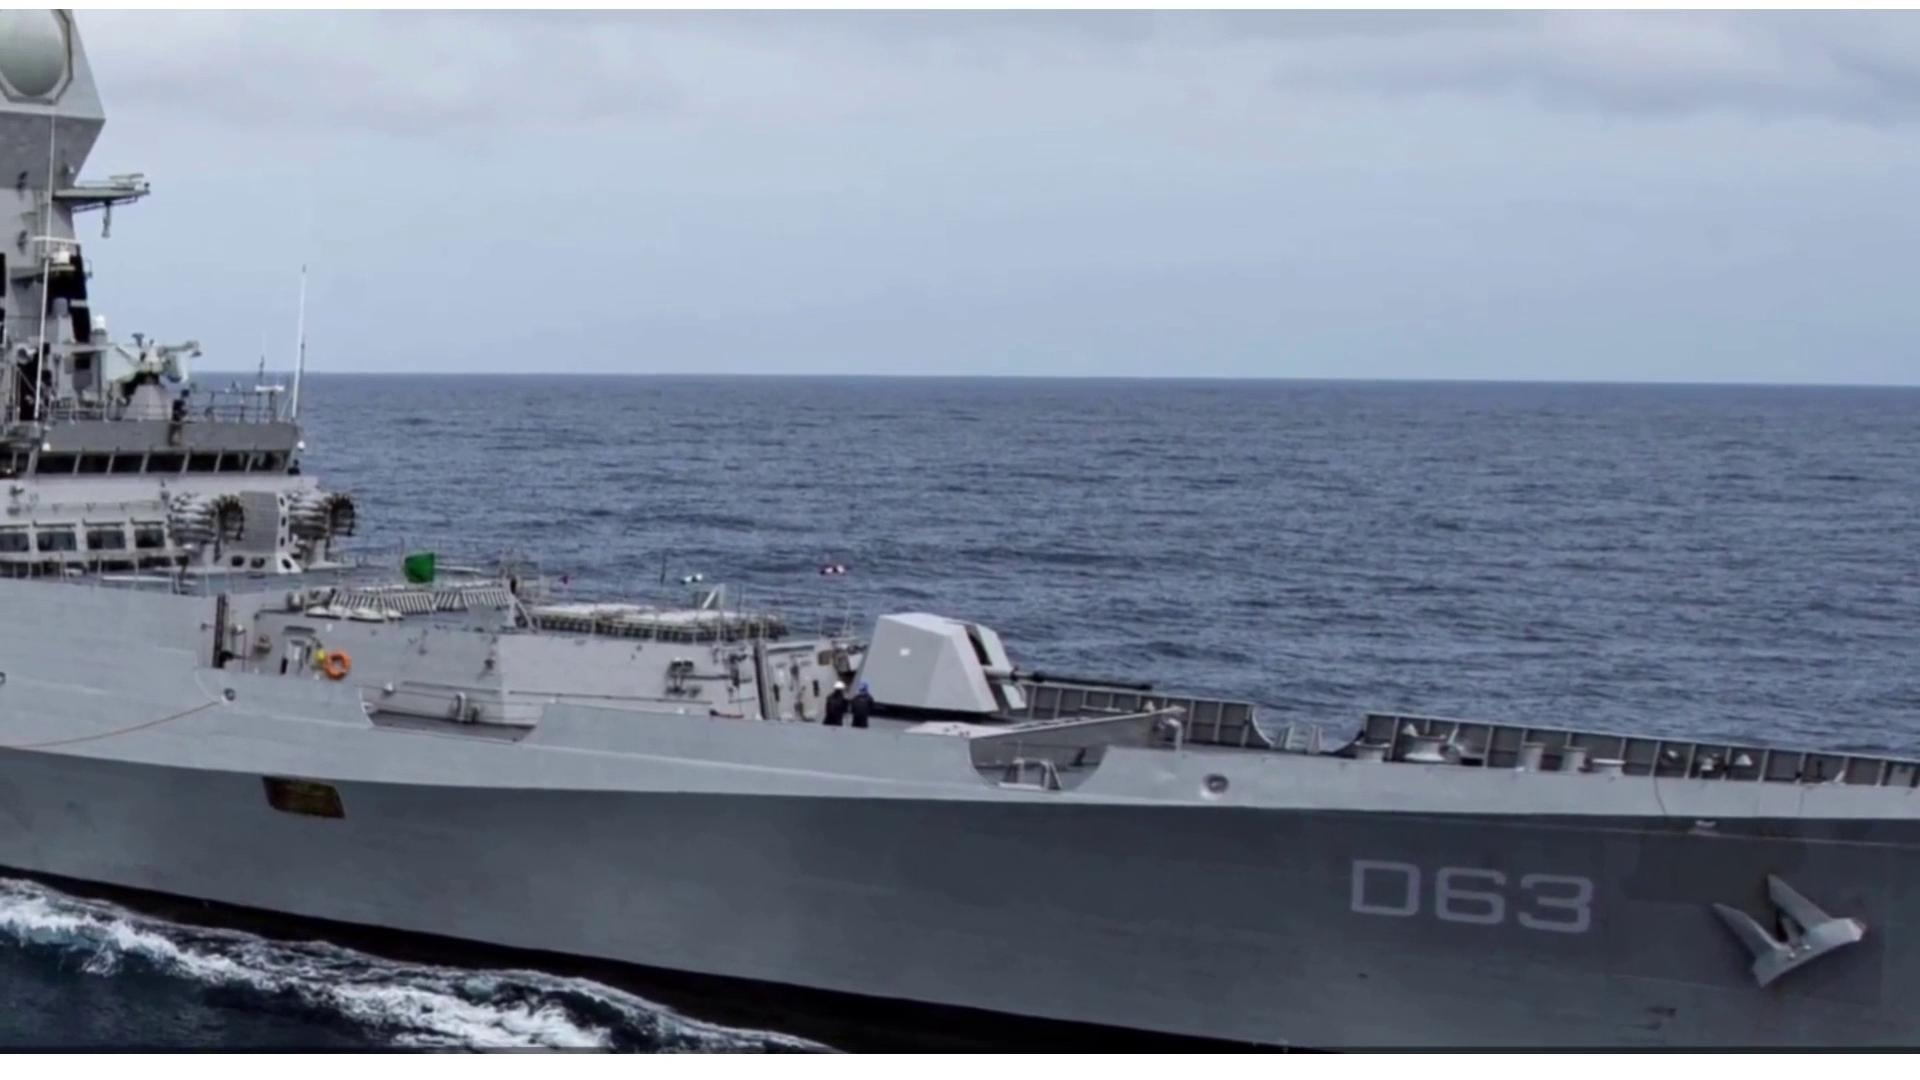OCR: (1349, 847, 1598, 949)
